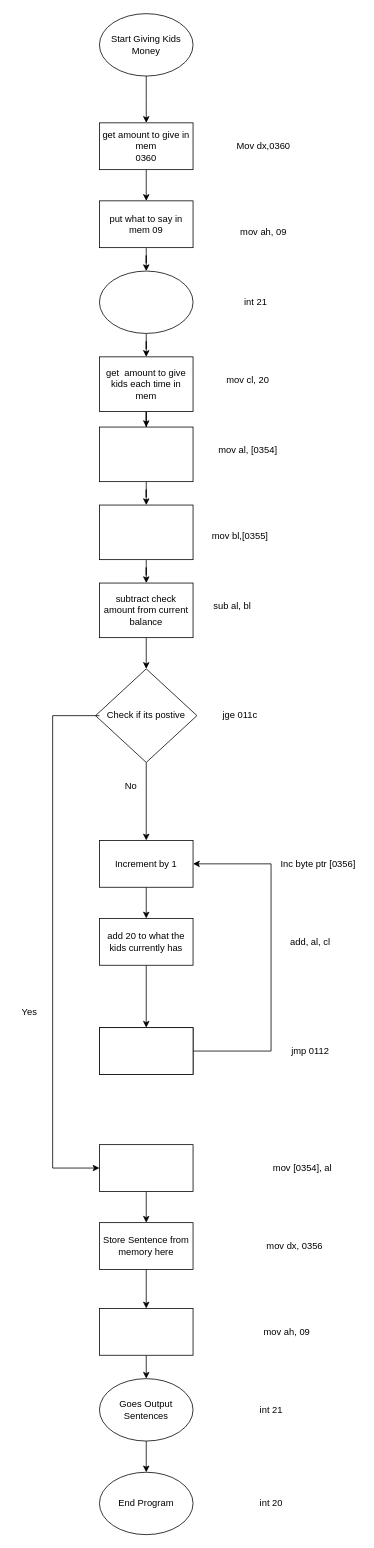
Image size: 374x1548. Some labels were removed from this diagram. The shapes that lost their labels are listed below. From the top down, each one's centre as x and y in pixels, then its label:
At pixel 146 301: "Output the Sentence".
At pixel 146 454: "get current amount from memory".
At pixel 146 532: "get other amount from mem".
At pixel 146 1050: "Return to add".
At pixel 146 1167: "Store Current Balance".
At pixel 146 1331: "Store memory from 09 here".
